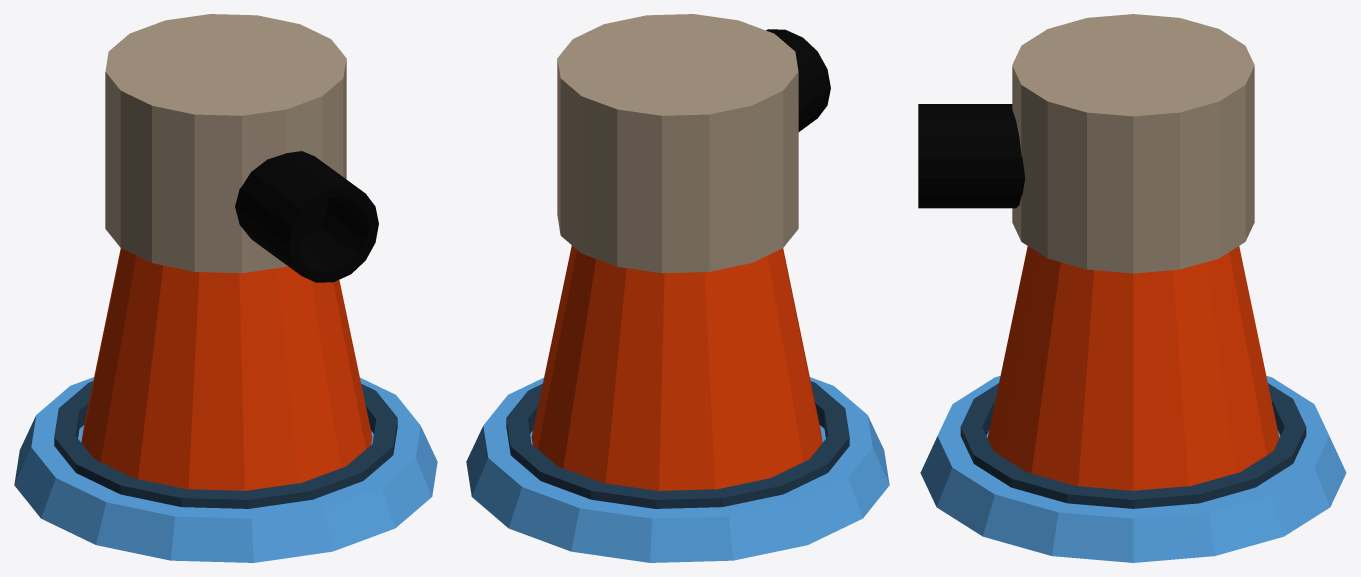
File: Turret.fbx
3 renders of one model, left to right at view 1: azimuth 30°, elevation 25°; view 2: azimuth 150°, elevation 25°; view 3: azimuth 270°, elevation 25°, orthographic.
Parts seen in each view (by area): view 1: SM_TurretBody, SM_TurretBase; view 2: SM_TurretBody, SM_TurretBase; view 3: SM_TurretBody, SM_TurretBase.
Boxes of the visible parts, x1,y1,x2,y2 form: SM_TurretBody: (81, 14, 378, 490); SM_TurretBase: (14, 377, 437, 562); SM_TurretBody: (531, 14, 830, 490); SM_TurretBase: (466, 377, 889, 562); SM_TurretBody: (918, 14, 1279, 490); SM_TurretBase: (920, 376, 1346, 562).
Bounding box in the file's own units: 0.5546 × 0.5855 × 0.5571.
